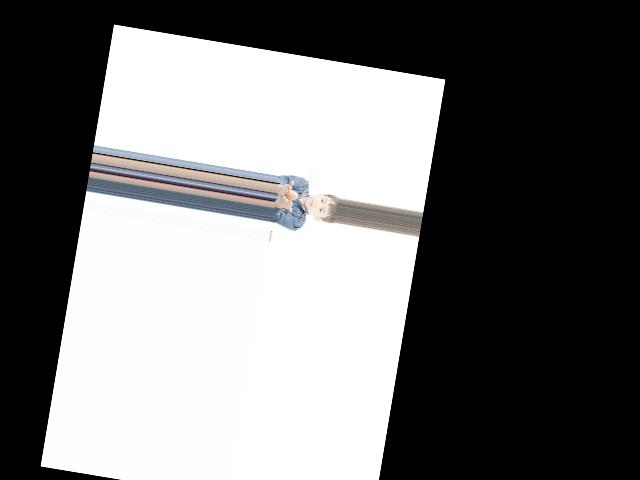egg: (284, 189, 298, 201)
